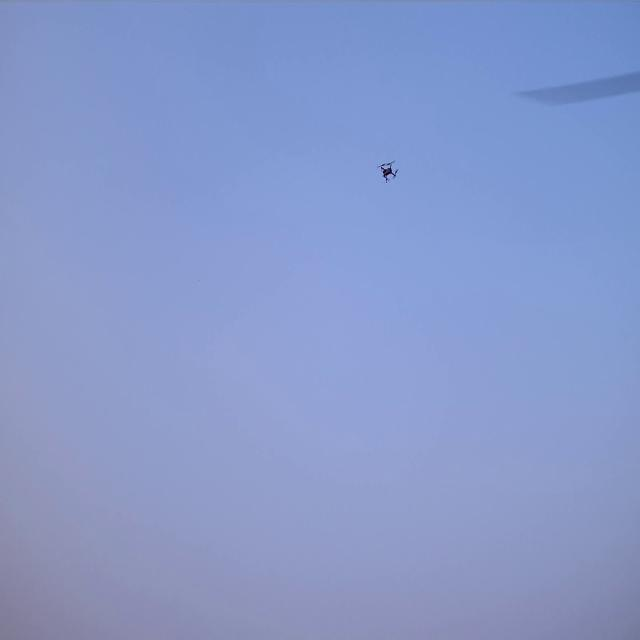UAV: (376, 158, 398, 185)
